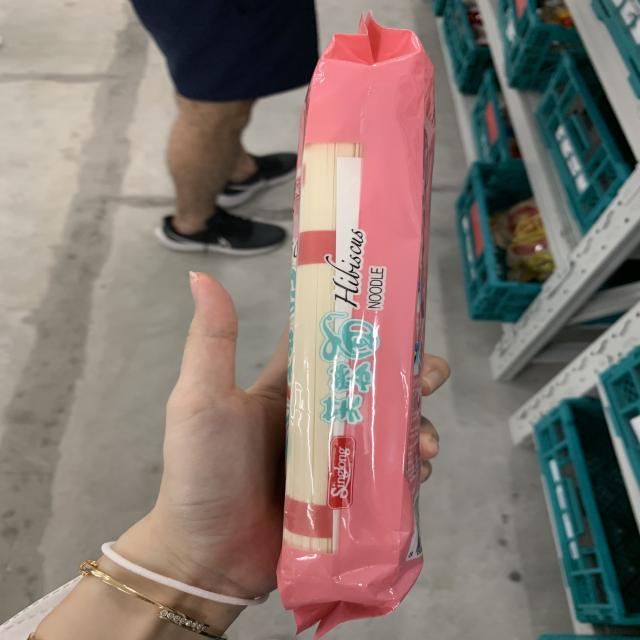object_name: (284, 38, 442, 618)
